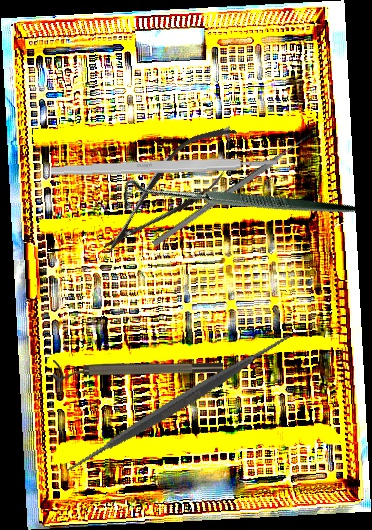Fixation Ring: (53, 360, 223, 382)
Hook Surgical: (112, 94, 358, 317)
Micro Scissor: (87, 110, 255, 271)
Pusher: (151, 129, 317, 248)
Scalpel Handle: (50, 156, 278, 178)
Spatula Surgical: (51, 276, 305, 530)
